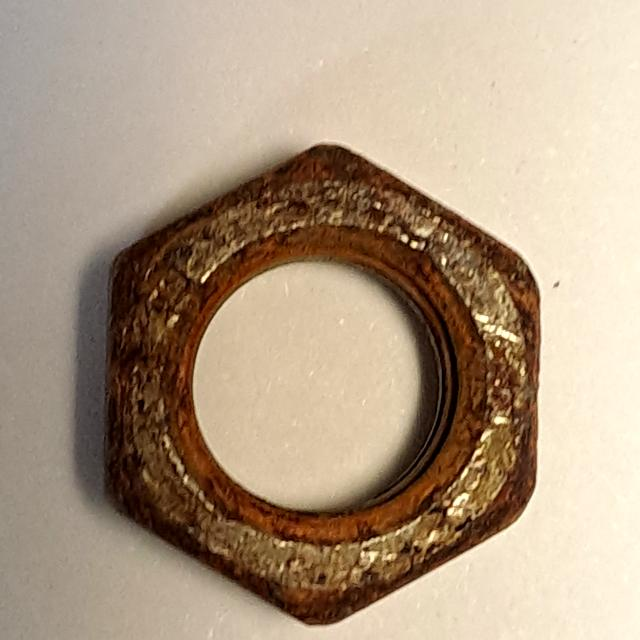Rust: (85, 132, 553, 637)
